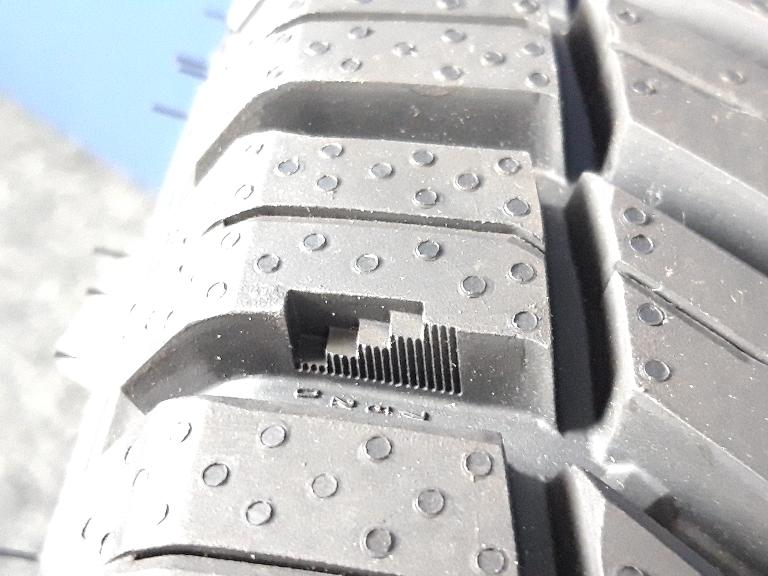temoin:100: (272, 281, 472, 407)
